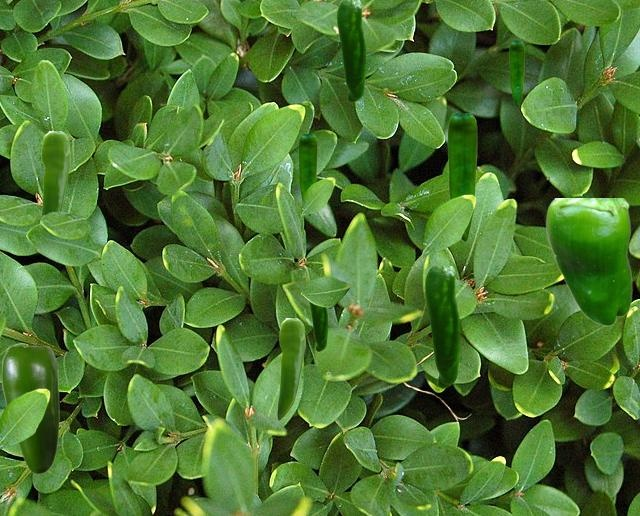green_chili: (545, 198, 631, 325), (2, 346, 58, 473), (425, 266, 458, 387), (447, 113, 476, 240), (277, 318, 304, 419), (337, 0, 364, 101), (40, 131, 69, 216), (298, 134, 316, 214), (509, 41, 523, 106), (309, 302, 326, 350)
